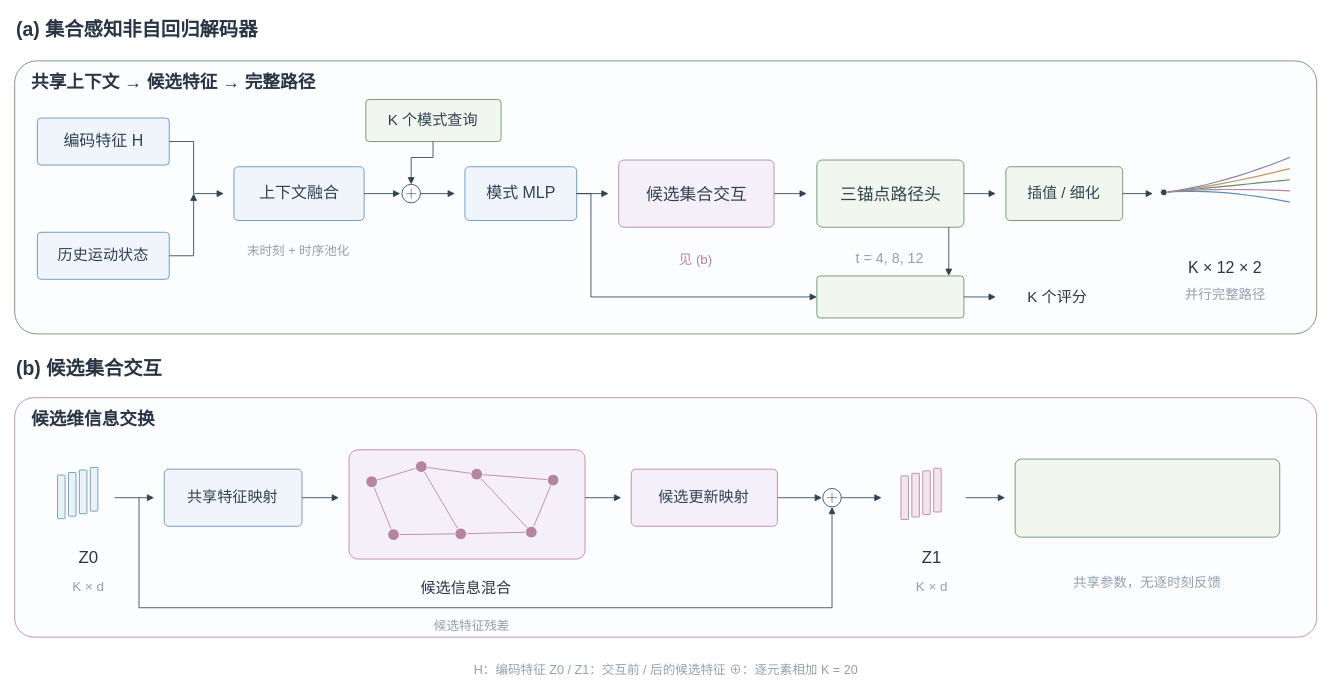
This 1331x694 diagram has some shape labels left out. Here are the shapes that lost their labels. From the top down, the centre of each, then its label:
point (890, 296): 独立评分头
point (1147, 497): 三锚点路径头 全部候选同时生成
